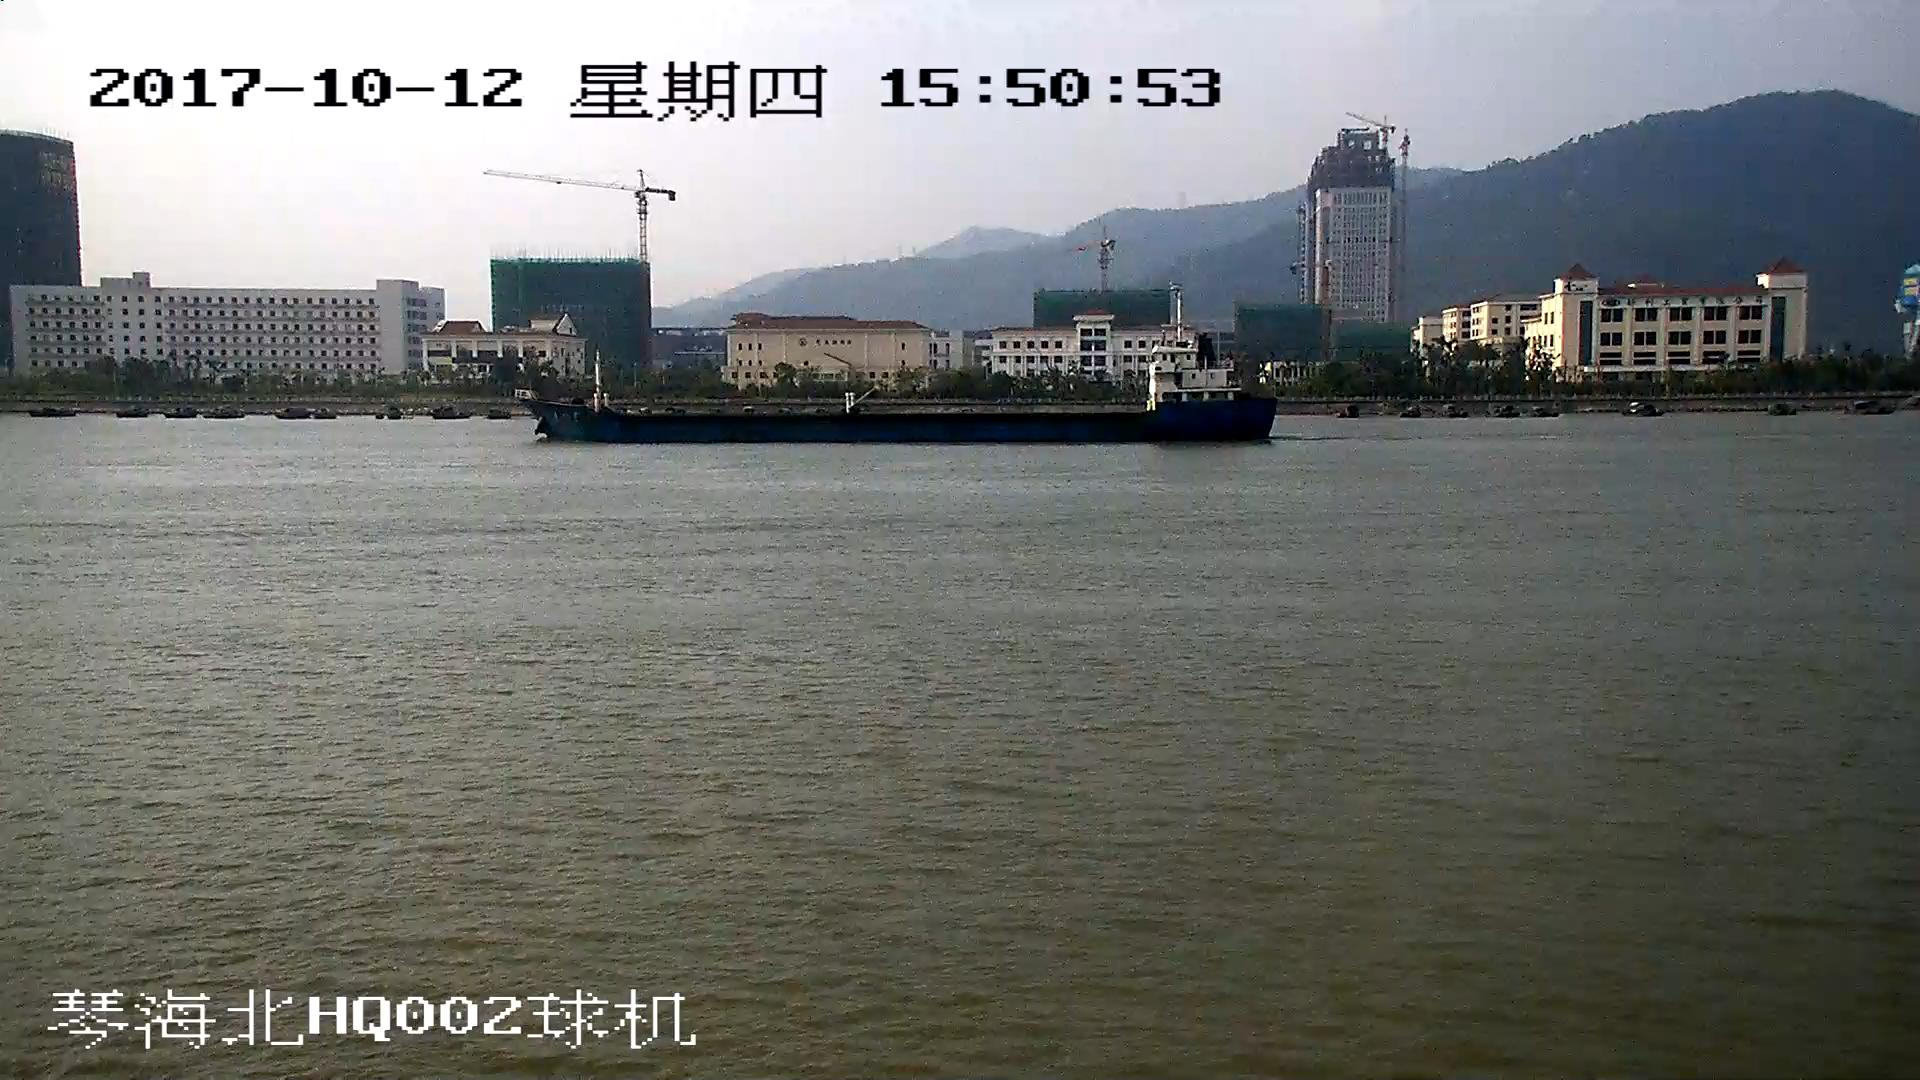general cargo ship: (523, 324, 1274, 444)
